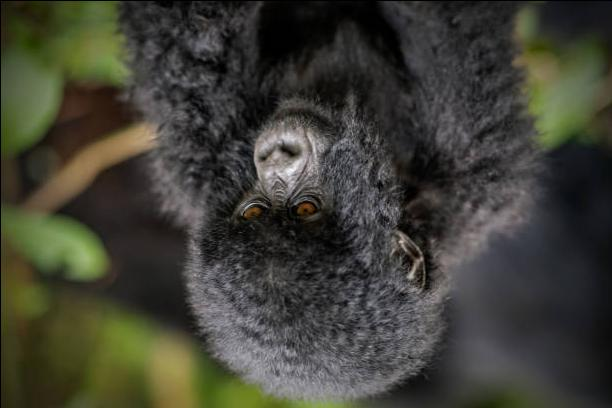goriile_montagne: (135, 9, 538, 406)
